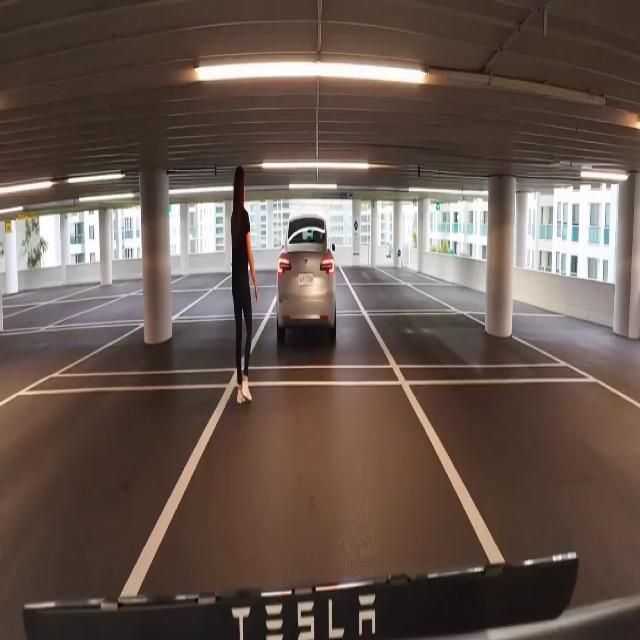car: (298, 273, 313, 289)
